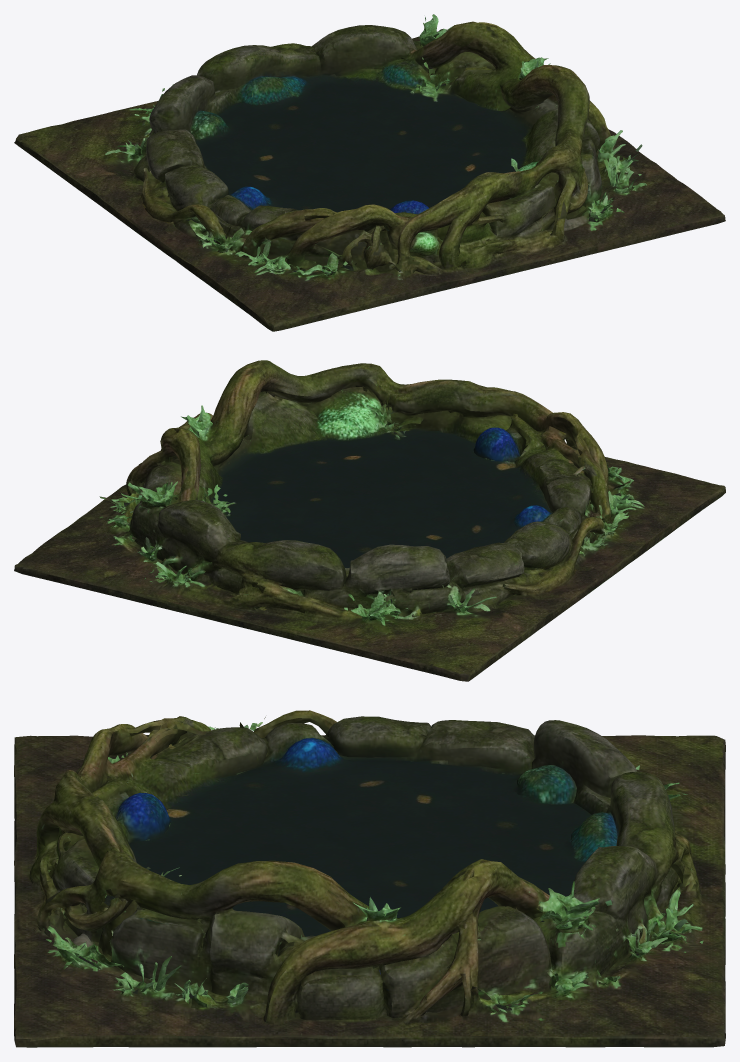
The model's file is glowmoss_pool_basin.glb.
3 renders of one model, top to bottom at view 1: azimuth 30°, elevation 25°; view 2: azimuth 150°, elevation 25°; view 3: azimuth 270°, elevation 25°, orthographic. The views are drawn at different scales.
Visible parts, largest first — view 1: Mesh_0; view 2: Mesh_0; view 3: Mesh_0.
Boxes of the visible parts, box(x1,y1,x2,y2) form: Mesh_0: box(14, 14, 725, 331); Mesh_0: box(14, 360, 725, 681); Mesh_0: box(14, 710, 725, 1047).
Size of the model in its own units: 1.9 by 0.4031 by 1.89.
Materials: 1 (1 with a texture image).
